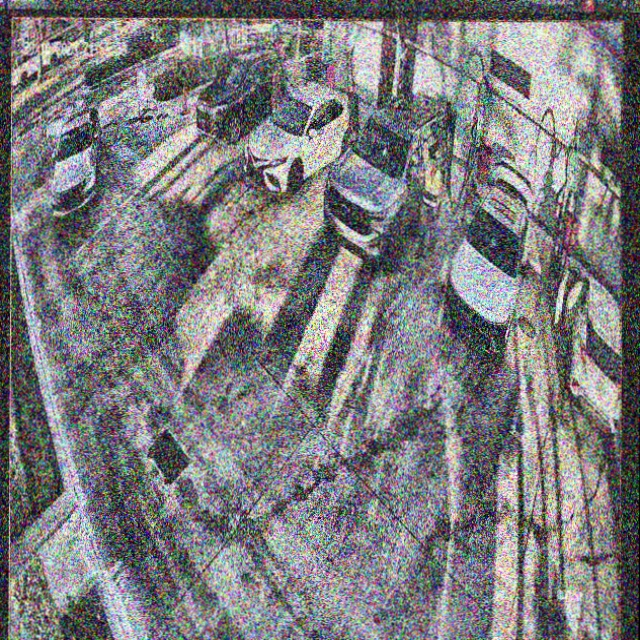Car: (320, 93, 453, 267), (446, 161, 533, 354), (244, 85, 359, 195)
